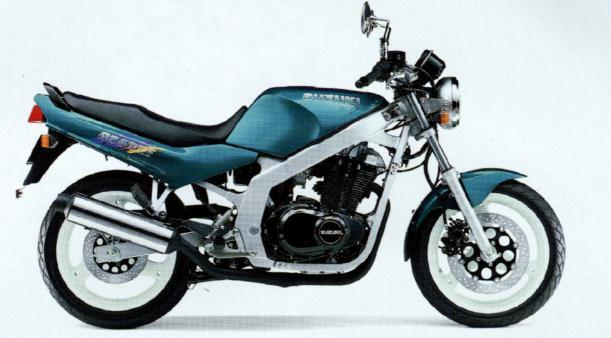motorcycle: (1, 1, 611, 338)
